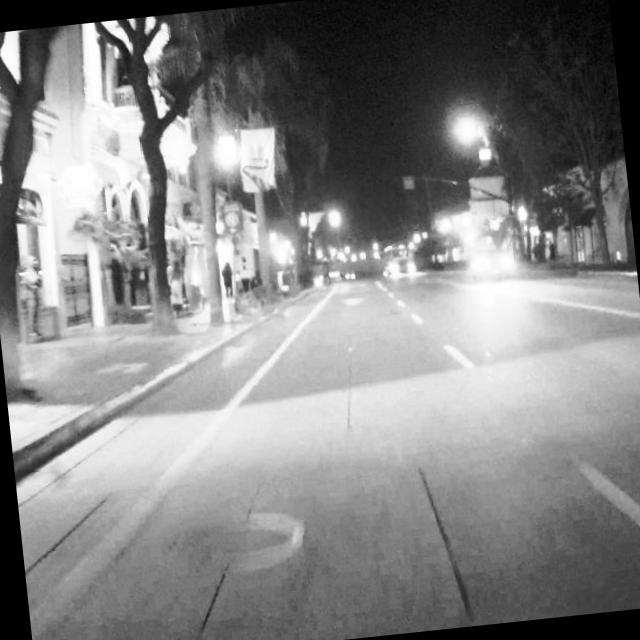Tree: (0, 25, 101, 413)
